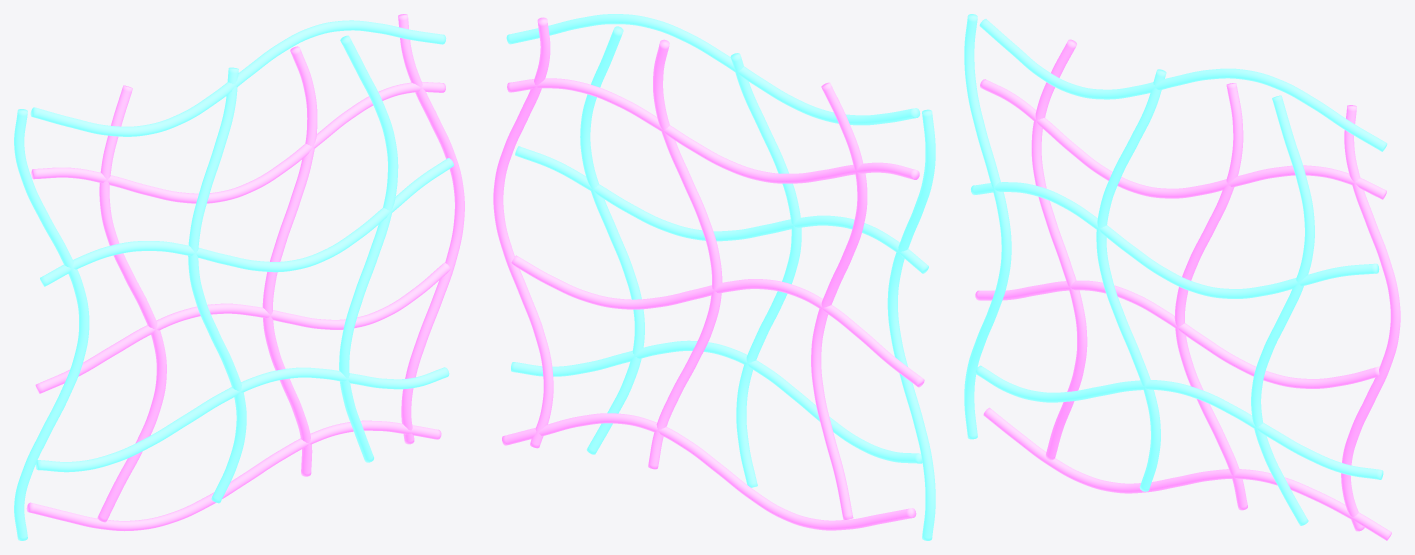
Rendered from VFX_08_金蛇精_刚柔阴阳剑柔丝网.glb.
3 renders of one model, left to right at view 1: azimuth 30°, elevation 25°; view 2: azimuth 150°, elevation 25°; view 3: azimuth 330°, elevation 25°, orthographic.
Visible parts, largest first — view 1: SilkV_0, SilkH_5, SilkV_2, SilkH_3, SilkV_4, SilkH_1, SilkV_1, SilkH_4, SilkV_3, SilkV_5, SilkH_0, SilkH_2; view 2: SilkV_1, SilkH_2, SilkV_3, SilkH_0, SilkV_5, SilkV_0, SilkV_2, SilkH_4, SilkH_5, SilkV_4, SilkH_3, SilkH_1; view 3: SilkH_5, SilkV_4, SilkV_0, SilkV_2, SilkH_1, SilkH_3, SilkV_3, SilkH_4, SilkV_5, SilkH_0, SilkV_1, SilkH_2.
Boxes of the visible parts, x1,y1,x2,y2 form: SilkV_0: [14, 109, 89, 540]; SilkH_5: [30, 20, 446, 136]; SilkV_2: [188, 67, 246, 503]; SilkH_3: [40, 158, 453, 286]; SilkV_4: [339, 35, 398, 462]; SilkH_1: [35, 367, 449, 472]; SilkV_1: [97, 85, 166, 522]; SilkH_4: [31, 82, 445, 203]; SilkV_3: [262, 46, 317, 476]; SilkV_5: [398, 14, 464, 444]; SilkH_0: [26, 420, 441, 531]; SilkH_2: [35, 262, 450, 393]; SilkV_1: [811, 82, 867, 520]; SilkH_2: [511, 255, 924, 387]; SilkV_3: [648, 39, 722, 469]; SilkH_0: [502, 413, 916, 530]; SilkV_5: [493, 17, 553, 448]; SilkV_0: [887, 109, 935, 540]; SilkV_2: [730, 53, 801, 487]; SilkH_4: [507, 78, 919, 183]; SilkH_5: [506, 14, 920, 125]; SilkV_4: [580, 26, 644, 454]; SilkH_3: [515, 146, 928, 273]; SilkH_1: [511, 340, 922, 463]; SilkH_5: [979, 19, 1387, 151]; SilkV_4: [1251, 95, 1314, 525]; SilkV_0: [964, 14, 1011, 439]; SilkV_2: [1096, 69, 1166, 491]; SilkH_1: [975, 365, 1383, 479]; SilkH_3: [971, 182, 1379, 298]; SilkV_3: [1174, 83, 1247, 510]; SilkH_4: [980, 79, 1386, 199]; SilkV_5: [1341, 105, 1400, 531]; SilkH_0: [983, 407, 1391, 540]; SilkV_1: [1031, 39, 1087, 460]; SilkH_2: [975, 280, 1379, 388].
Size of the model in its own units: 3.82 by 3.82 by 0.4539.
